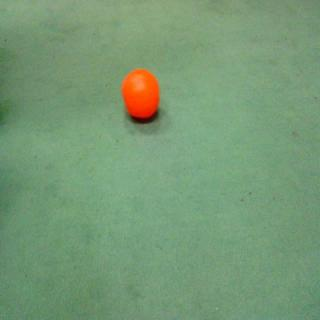orange: (116, 65, 162, 129)
